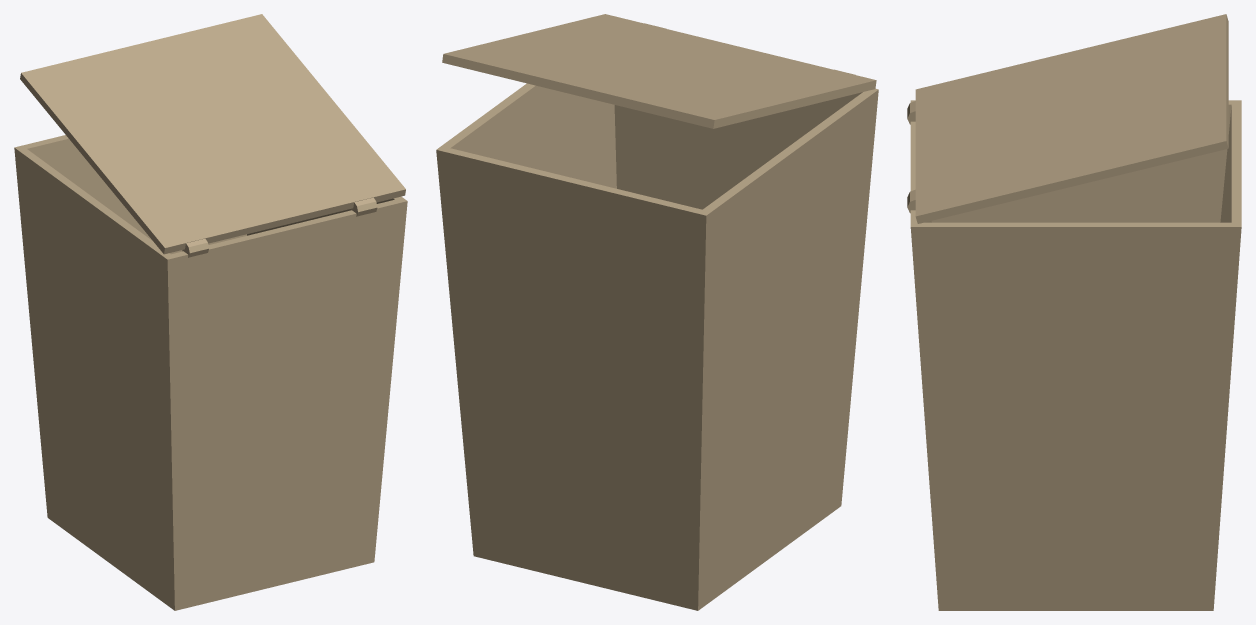
The model's file is SM_Trash_01.fbx.
3 views of the same model, side by side, from view 1: azimuth 30°, elevation 25°; view 2: azimuth 150°, elevation 25°; view 3: azimuth 270°, elevation 25° (orthographic). The views are drawn at different scales.
Parts seen in each view (by area): view 1: SM_Trash_01; view 2: SM_Trash_01; view 3: SM_Trash_01.
Part boxes in pixels (x1,y1,x2,y2): SM_Trash_01: (14, 14, 407, 610); SM_Trash_01: (436, 14, 878, 610); SM_Trash_01: (907, 14, 1241, 610).
Size of the model in its own units: 30.17 by 53.28 by 33.56.
